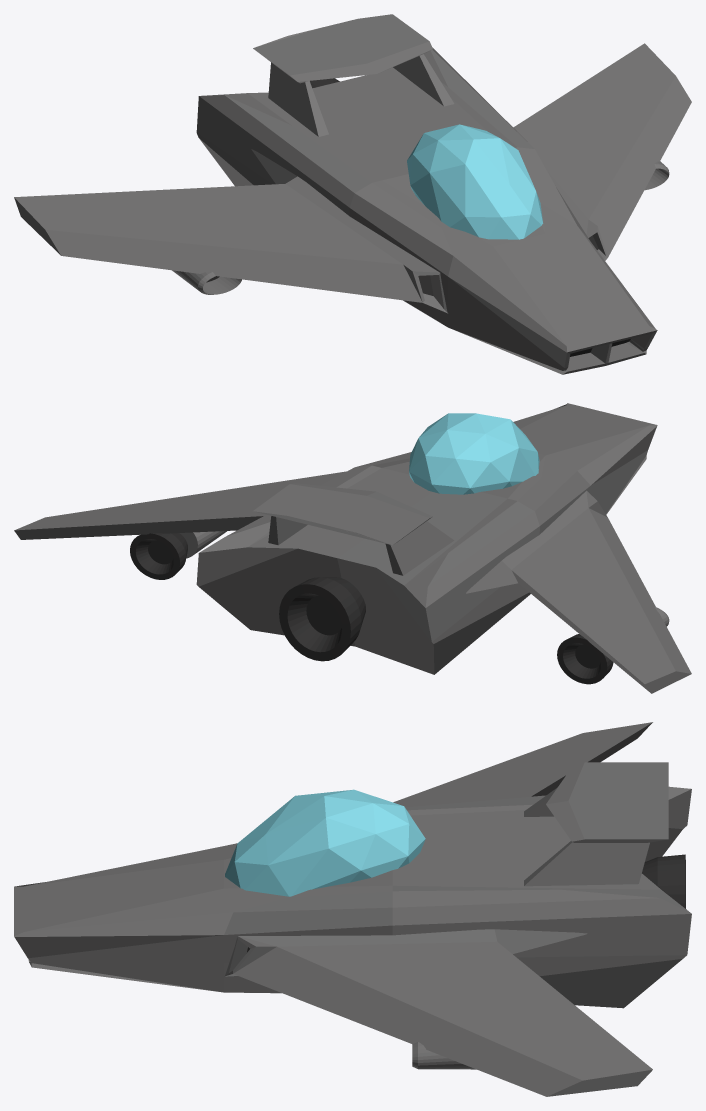
Rendered from space brigade starbird 2.glb.
The picture shows the model from 3 angles, top to bottom: view 1: azimuth 30°, elevation 25°; view 2: azimuth 150°, elevation 25°; view 3: azimuth 270°, elevation 25°; orthographic projection. The views are drawn at different scales.
Visible parts, largest first — view 1: Hull, Wings, Canopy, Spoiler, Spoiler Strut, Turbine.R; view 2: Hull, Wings, Canopy, Spoiler, Engine, Spoiler Strut, Engine.L, Engine.R, Turbine.L; view 3: Hull, Wings, Canopy, Spoiler, Spoiler Strut, Engine, Turbine.L.
Part boxes in pixels (box(x1,y1,x2,y2)): Hull: box(196, 47, 657, 374); Wings: box(14, 43, 691, 313); Canopy: box(407, 124, 543, 239); Spoiler: box(253, 14, 432, 83); Spoiler Strut: box(268, 54, 454, 136); Turbine.R: box(172, 270, 241, 294); Hull: box(196, 403, 657, 674); Wings: box(14, 471, 691, 693); Canopy: box(409, 413, 539, 494); Spoiler: box(253, 483, 432, 545); Engine: box(279, 577, 365, 661); Spoiler Strut: box(268, 516, 454, 575); Engine.L: box(130, 533, 187, 579); Engine.R: box(557, 634, 613, 684); Turbine.L: box(179, 531, 226, 558); Hull: box(14, 786, 691, 1008); Wings: box(224, 722, 652, 1096); Canopy: box(225, 789, 425, 896); Spoiler: box(546, 762, 668, 842); Spoiler Strut: box(524, 787, 649, 886); Engine: box(642, 854, 685, 908); Turbine.L: box(412, 1042, 476, 1069).
Size of the model in its own units: 12.85 by 2.84 by 10.59.
2 materials, 1 textured.
